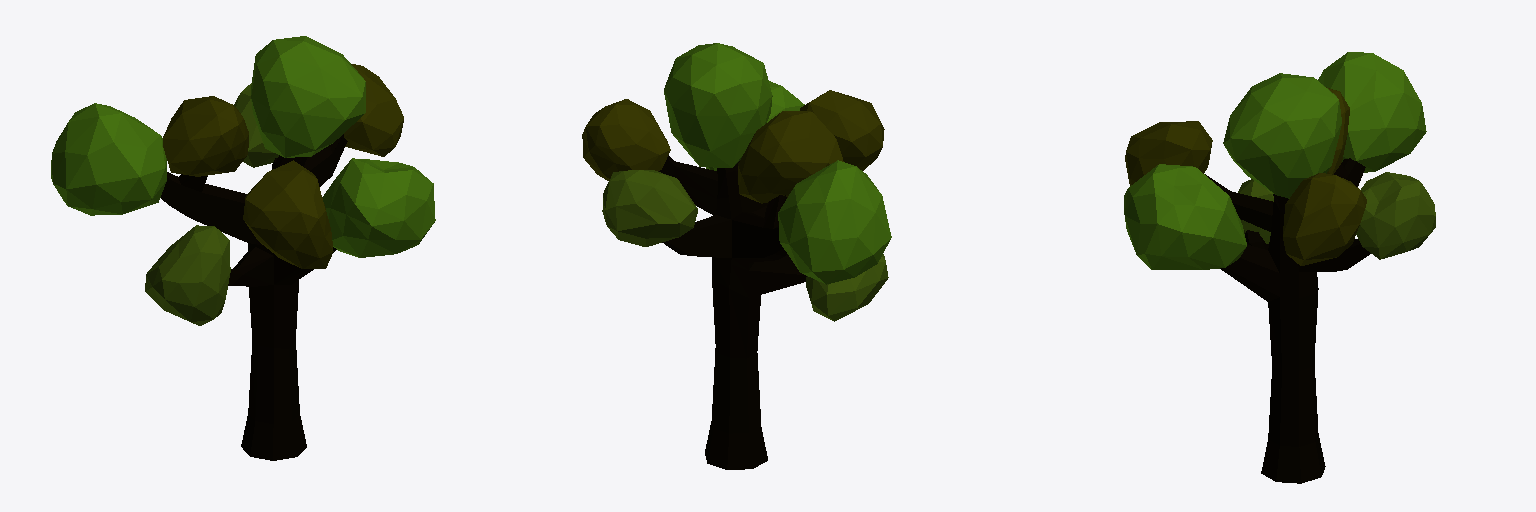
File: regularTree2.obj
The picture shows the model from 3 angles: view 1: azimuth 30°, elevation 25°; view 2: azimuth 150°, elevation 25°; view 3: azimuth 270°, elevation 25°; orthographic projection.
Visible parts, largest first — view 1: Arbre_Normal_Cylinder.002; view 2: Arbre_Normal_Cylinder.002; view 3: Arbre_Normal_Cylinder.002.
Boxes of the visible parts, <box> form: Arbre_Normal_Cylinder.002: <box>51,36,435,460</box>; Arbre_Normal_Cylinder.002: <box>582,43,891,469</box>; Arbre_Normal_Cylinder.002: <box>1124,52,1435,483</box>.
Size of the model in its own units: 3.18 by 3.92 by 2.75.